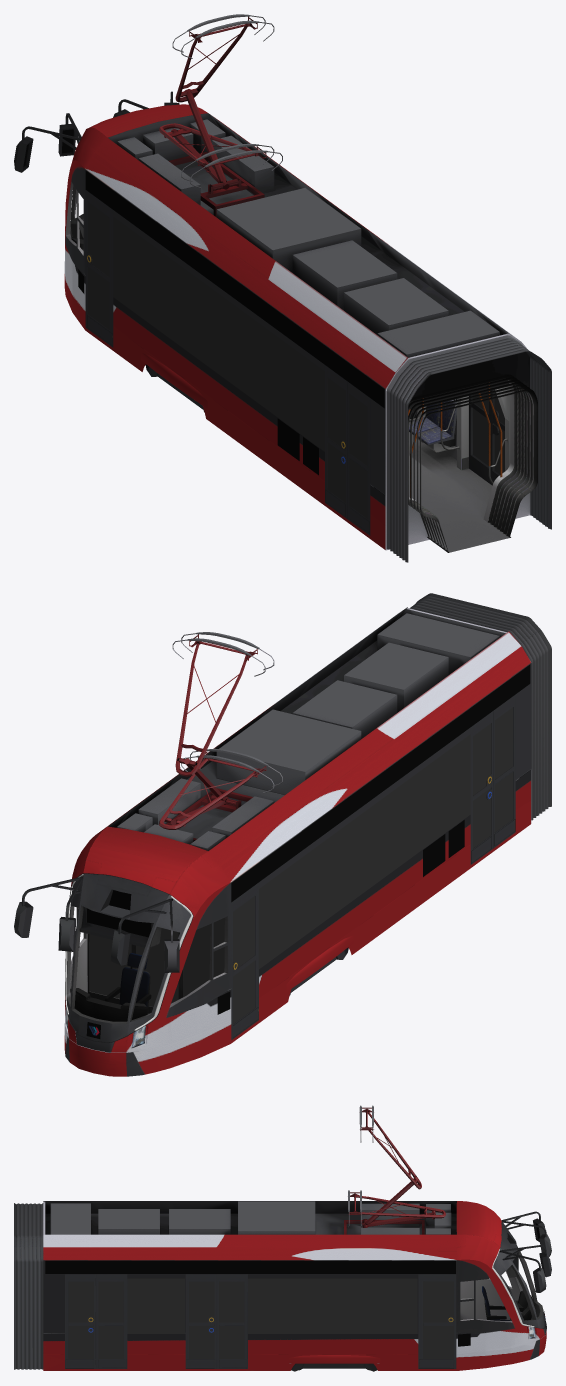
The model's file is nevsky_c.obj.
3 views of the same model, one above another, from view 1: azimuth 30°, elevation 25°; view 2: azimuth 150°, elevation 25°; view 3: azimuth 270°, elevation 25° (orthographic). The views are drawn at different scales.
Parts seen in each view (by area): view 1: body, salon, steklo, garm, steklo_rr, d_rr, pant_backward, pant_forward, steklo_rl, d_rl, steklo_lr, zerk_backward (+2 smaller); view 2: body, steklo, garm, salon, steklo_rr, pant_backward, d_rr, pant_forward, steklo_rl, zerk_forward, zerk_backward, d_rl (+1 smaller); view 3: body, steklo, steklo_ll, garm, d_ll, steklo_lr, salon, d_lr, pant_backward, pant_forward, zerk_backward, zerk_forward (+1 smaller).
Boxes of the visible parts, <box> form: body: <box>64,104,530,550</box>; salon: <box>65,181,537,552</box>; steklo: <box>113,217,456,451</box>; garm: <box>386,335,551,562</box>; steklo_rr: <box>87,202,367,518</box>; d_rr: <box>85,190,370,535</box>; pant_backward: <box>169,14,274,206</box>; pant_forward: <box>159,123,282,216</box>; steklo_rl: <box>327,378,345,502</box>; d_rl: <box>325,365,347,518</box>; steklo_lr: <box>473,391,488,465</box>; zerk_backward: <box>14,91,179,172</box>; body: <box>64,607,531,1076</box>; steklo: <box>89,734,470,1006</box>; garm: <box>410,593,551,820</box>; salon: <box>67,905,227,1023</box>; steklo_rr: <box>233,707,512,1023</box>; pant_backward: <box>166,632,274,841</box>; d_rr: <box>231,695,515,1039</box>; pant_forward: <box>159,748,282,829</box>; steklo_rl: <box>473,723,491,848</box>; zerk_forward: <box>58,876,172,965</box>; zerk_backward: <box>14,876,179,972</box>; d_rl: <box>470,711,493,864</box>; body: <box>43,1201,546,1370</box>; steklo: <box>127,1278,417,1333</box>; steklo_ll: <box>68,1281,453,1358</box>; garm: <box>14,1203,43,1369</box>; d_ll: <box>65,1274,456,1368</box>; steklo_lr: <box>98,1281,244,1358</box>; salon: <box>460,1246,543,1322</box>; d_lr: <box>96,1274,247,1368</box>; pant_backward: <box>344,1105,424,1234</box>; pant_forward: <box>348,1190,445,1227</box>; zerk_backward: <box>500,1211,546,1292</box>; zerk_forward: <box>499,1220,551,1277</box>.
Bounding box in the file's own units: 2.83 × 5.77 × 11.63.
Materials: 23 (23 with a texture image).
